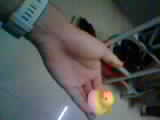duck: (79, 78, 127, 117)
